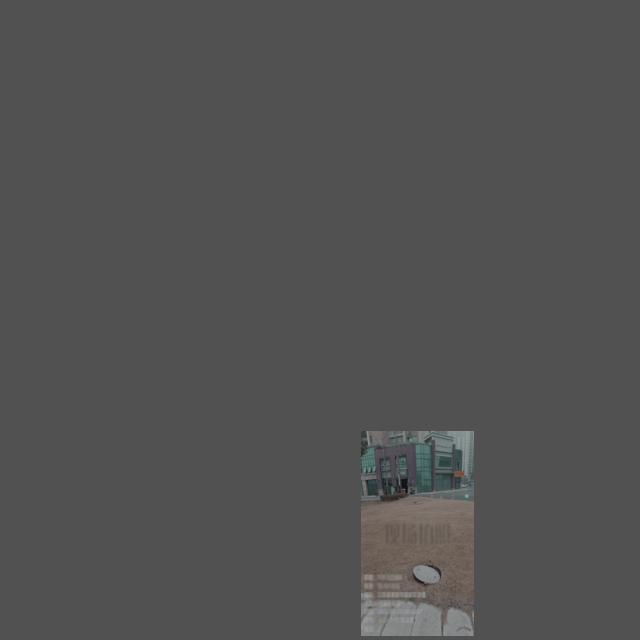uncovered: (412, 564, 441, 583)
